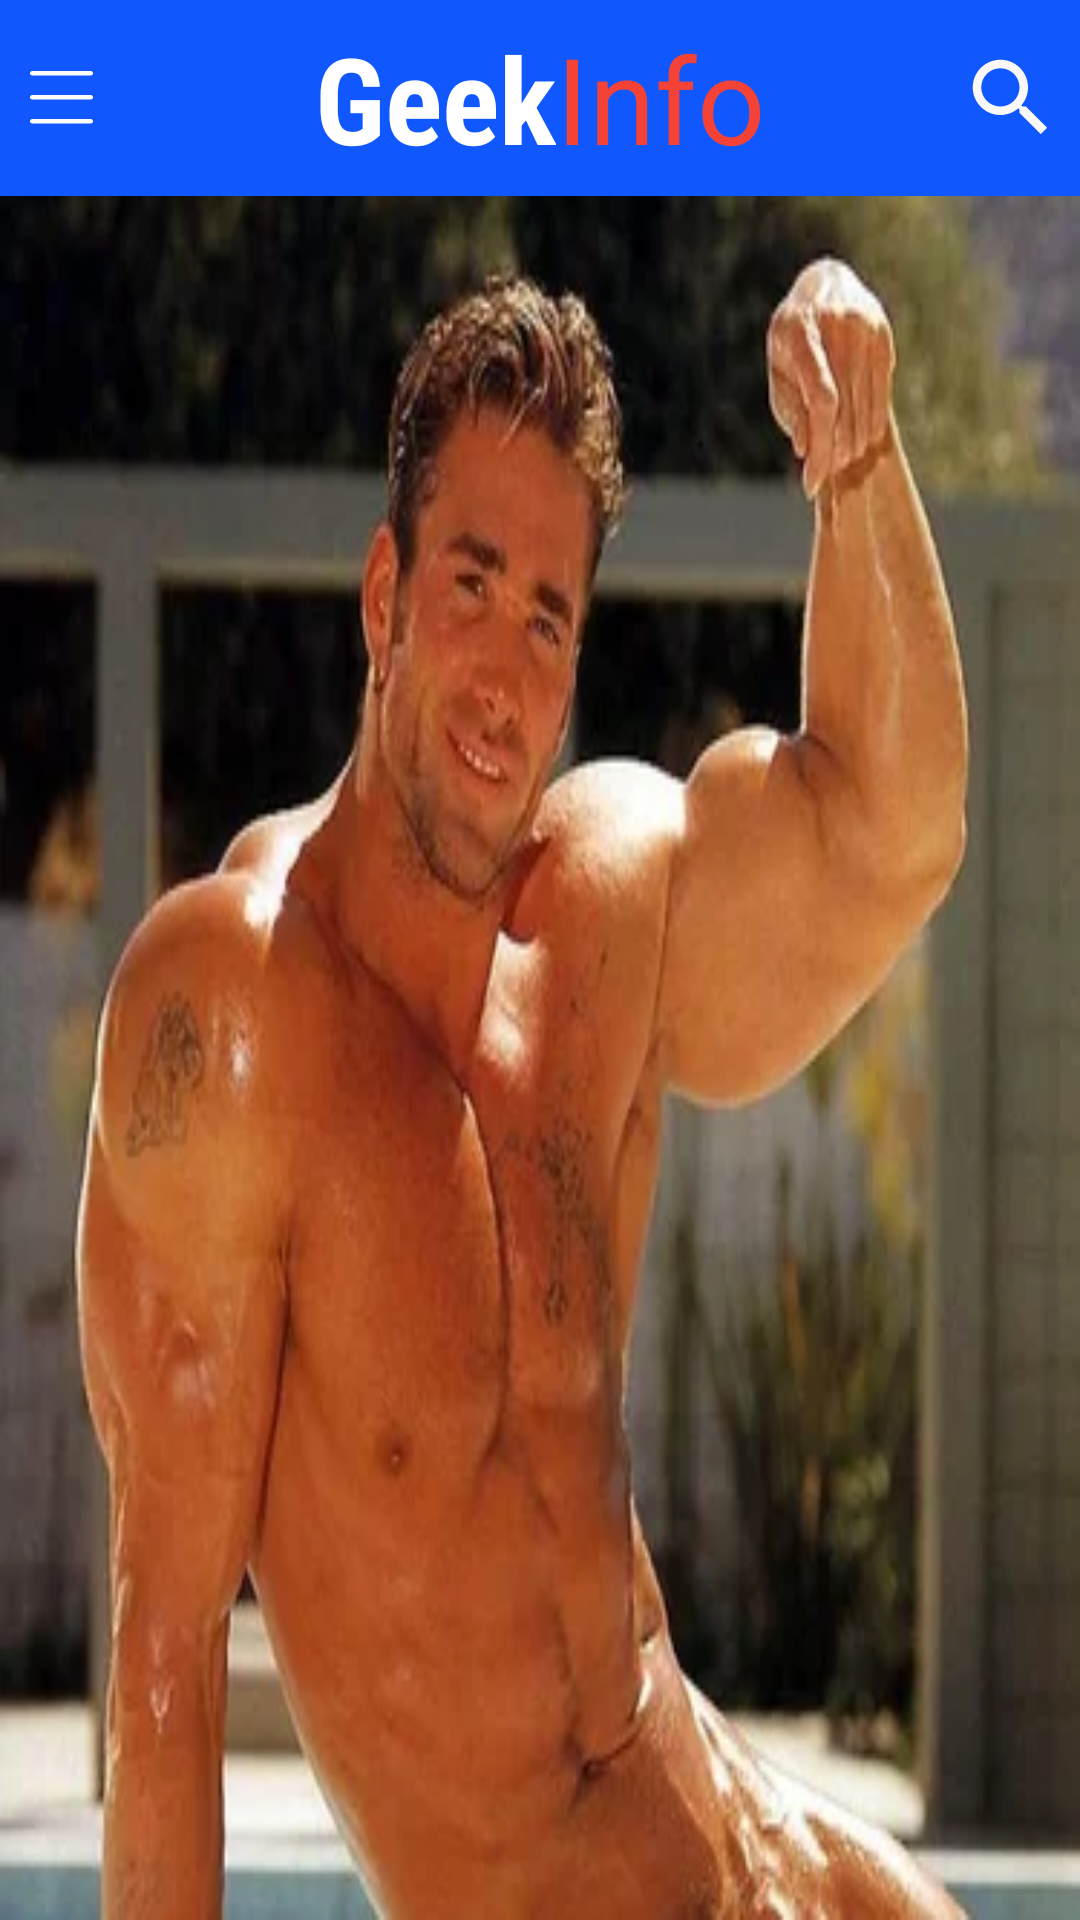

Screen size 1080w x 1920h. Icon name, then its box in pixels as box=[x1, y1, x2, y2]:
menu: box=[30, 71, 93, 124]
search: box=[972, 59, 1047, 134]
